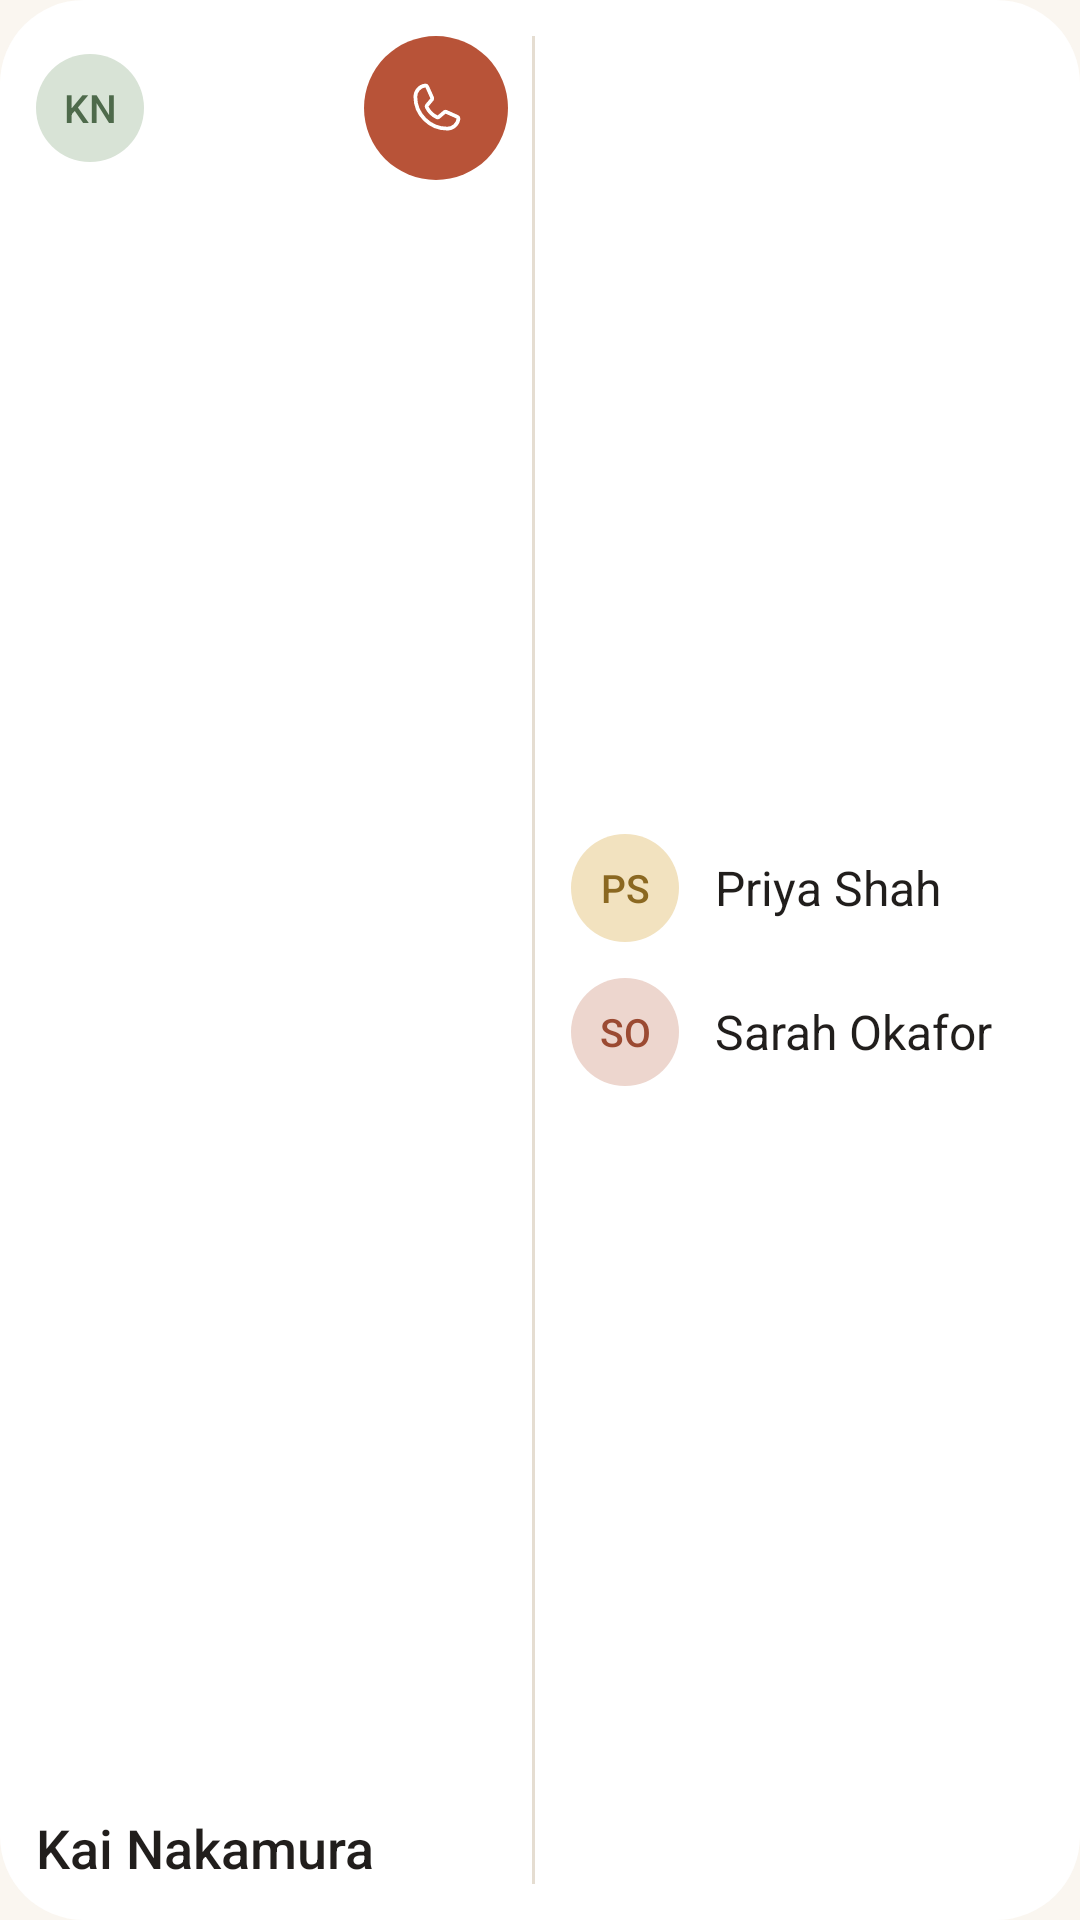

Where icons sit on this 1080px×1920px app screen, as (x1, y1, x2, y2):
phone: (413, 83, 461, 131)
